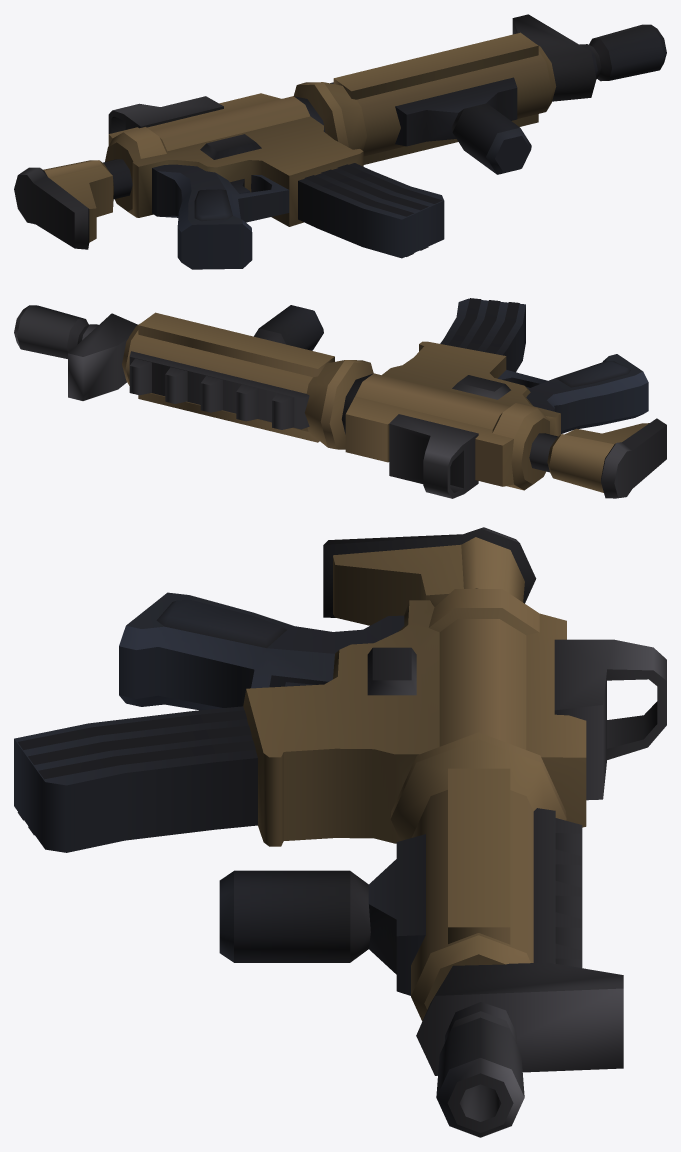
File: Weapon_M4A1.fbx
The picture shows the model from 3 angles, top to bottom: view 1: azimuth 30°, elevation 25°; view 2: azimuth 150°, elevation 25°; view 3: azimuth 270°, elevation 25°; orthographic projection. The views are drawn at different scales.
Parts seen in each view (by area): view 1: Weapon_M4A1; view 2: Weapon_M4A1; view 3: Weapon_M4A1.
Boxes of the visible parts, <box> form: Weapon_M4A1: <box>14,14,666,269</box>; Weapon_M4A1: <box>14,298,666,498</box>; Weapon_M4A1: <box>14,527,666,1137</box>.
Bounding box in the file's own units: 0.8147 × 0.1134 × 0.4206.
